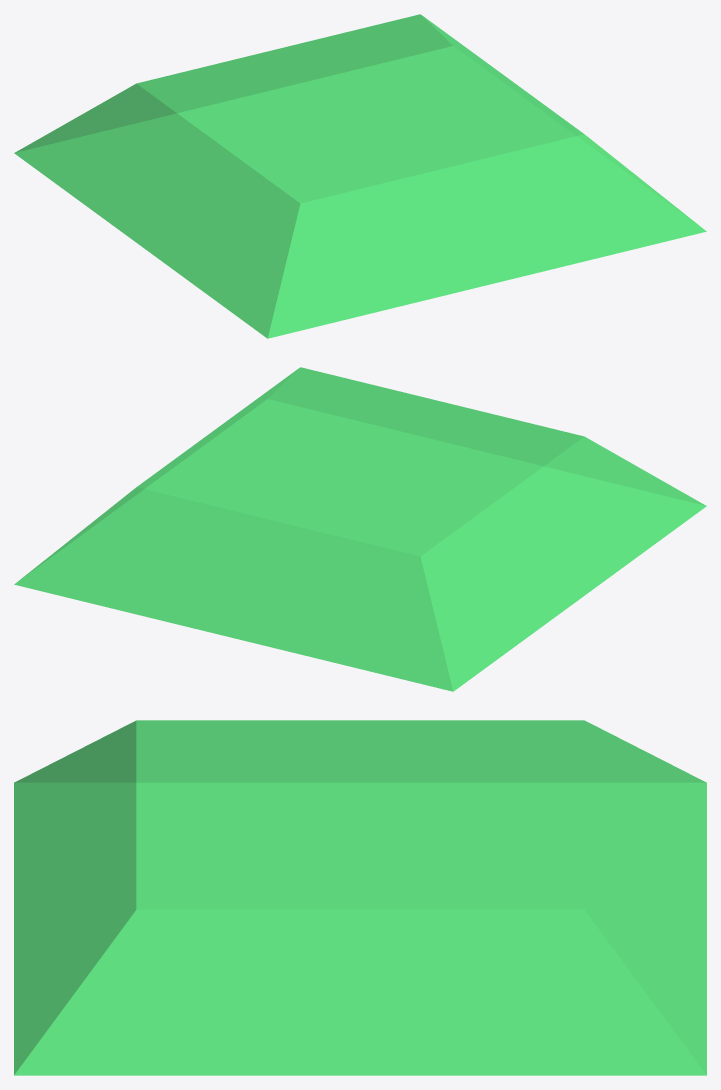
Rendered from Slime.fbx.
The picture shows the model from 3 angles, top to bottom: view 1: azimuth 30°, elevation 25°; view 2: azimuth 150°, elevation 25°; view 3: azimuth 270°, elevation 25°; orthographic projection. The views are drawn at different scales.
Parts seen in each view (by area): view 1: Cube; view 2: Cube; view 3: Cube.
Part boxes in pixels (<box>): Cube: <box>14,14,706,338</box>; Cube: <box>14,367,706,691</box>; Cube: <box>14,720,706,1075</box>.
Size of the model in its own units: 200 by 36.33 by 200.
